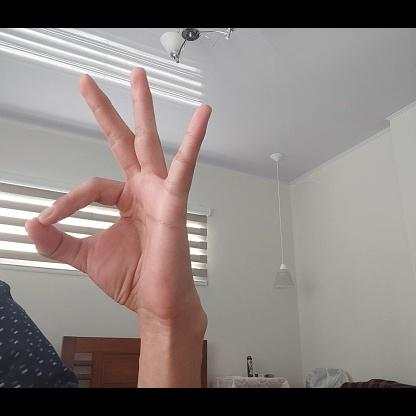F: (28, 67, 213, 314)
